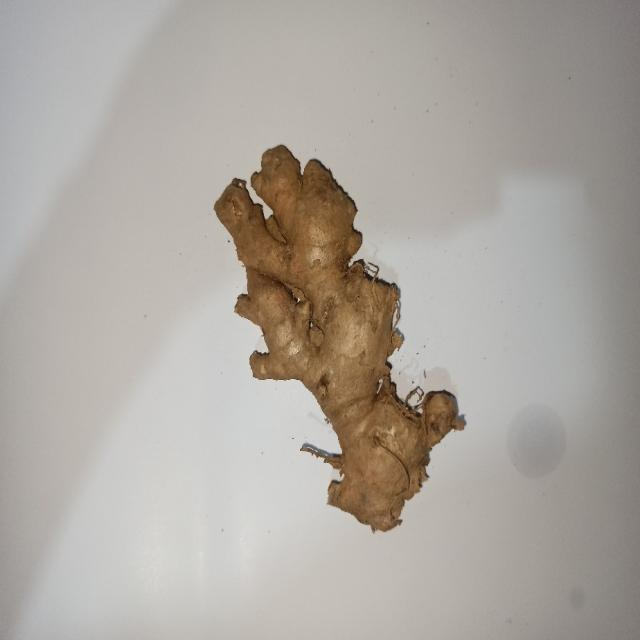ginger: (215, 142, 460, 534)
